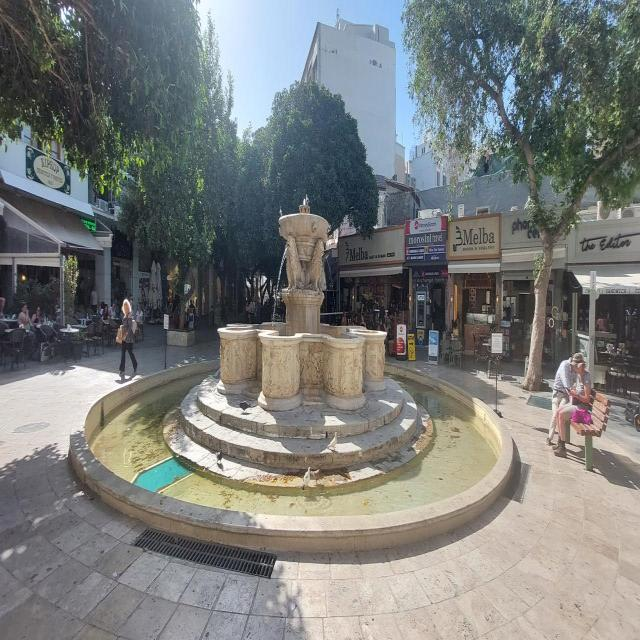Liontaria: (219, 212, 391, 411)
